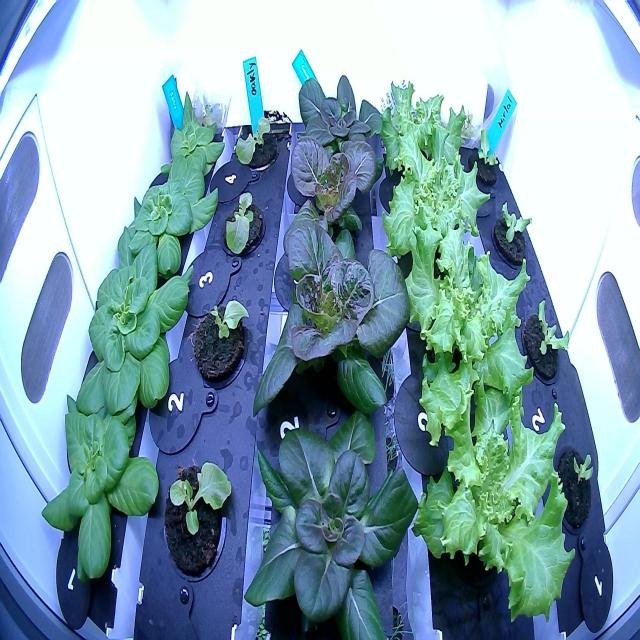young: (240, 399, 425, 640), (252, 188, 417, 438), (36, 372, 164, 592), (66, 233, 200, 432), (271, 128, 393, 280), (112, 141, 224, 291), (283, 65, 392, 196), (154, 84, 226, 188)
